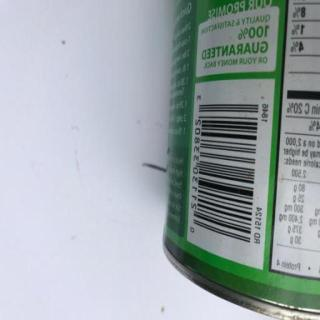Anorganik: (170, 1, 320, 318)
